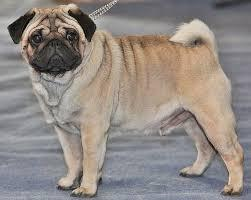Dog: (4, 2, 97, 74)
